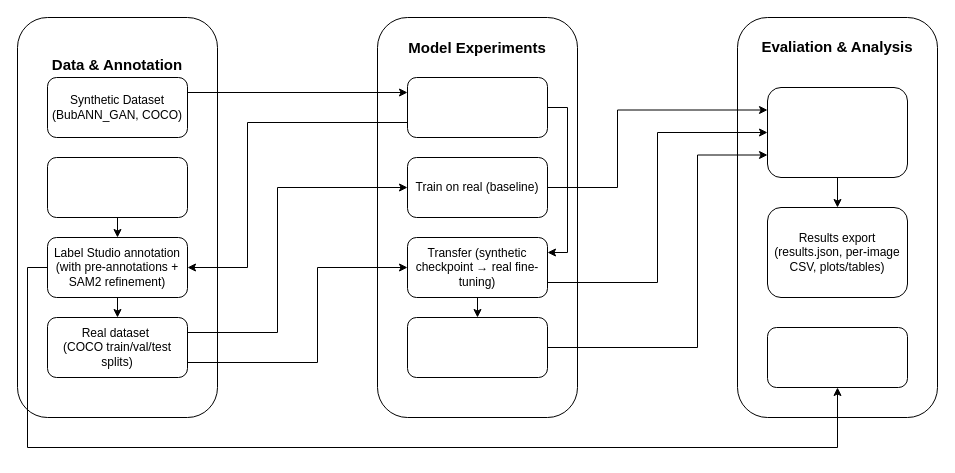
The diagram is 955 pixels wide and 473 high, and some of its shapes have lost their labels. Each missing label, with the centre of its shape:
Annotation-efficiency study: the point at 837,357
Evaluation on real test split (IoU/Dice + instance stats + speed): the point at 837,132
Experimental recordings → frames: the point at 117,187
Train on synthetic: the point at 477,107
Transfer + augmentation: the point at 477,347
